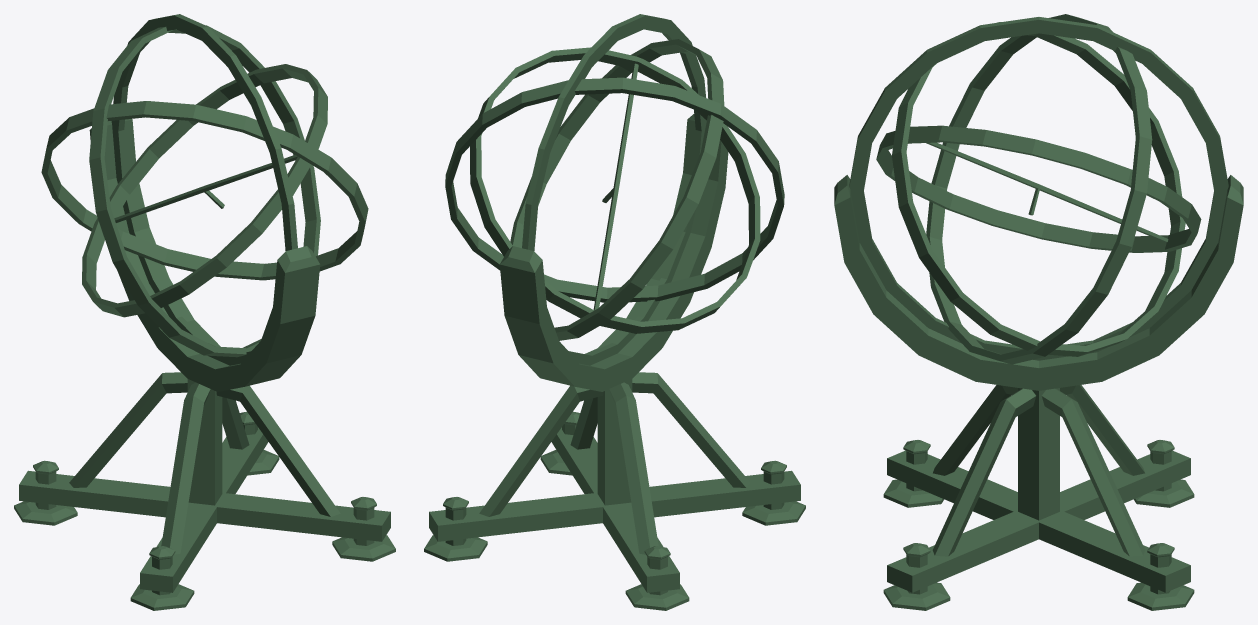
The model's file is 黄道仪.fbx.
3 views of the same model, side by side, from view 1: azimuth 30°, elevation 25°; view 2: azimuth 150°, elevation 25°; view 3: azimuth 270°, elevation 25° (orthographic). The views are drawn at different scales.
Visible parts, largest first — view 1: 立方体.001, 柱体.005, 柱体.009, 环体.001, 柱体.007, 柱体.008, 柱体.006, 立方体.002, 脚脚.004, 脚脚.005, 脚脚.007, 脚脚.006; view 2: 柱体.005, 立方体.001, 柱体.008, 环体.001, 柱体.009, 柱体.007, 柱体.006, 立方体.002, 脚脚.006, 脚脚.007, 脚脚.005, 脚脚.004; view 3: 立方体.001, 柱体.005, 柱体.006, 柱体.009, 环体.001, 柱体.008, 柱体.007, 立方体.002, 脚脚.004, 脚脚.006, 脚脚.005, 脚脚.007.
Boxes of the visible parts, box(x1,y1,x2,y2) form: 立方体.001: box(19, 427, 390, 592); 柱体.005: box(89, 119, 320, 391); 柱体.009: box(82, 64, 327, 317); 环体.001: box(69, 372, 340, 554); 柱体.007: box(41, 101, 368, 280); 柱体.008: box(89, 25, 320, 357); 柱体.006: box(111, 14, 297, 365); 立方体.002: box(187, 379, 222, 505); 脚脚.004: box(332, 497, 395, 561); 脚脚.005: box(14, 460, 77, 525); 脚脚.007: box(130, 546, 194, 610); 脚脚.006: box(239, 411, 279, 475); 柱体.005: box(499, 114, 728, 391); 立方体.001: box(429, 427, 800, 592); 柱体.008: box(445, 77, 784, 302); 环体.001: box(479, 372, 750, 554); 柱体.009: box(470, 47, 760, 333); 柱体.007: box(510, 39, 724, 340); 柱体.006: box(522, 14, 706, 365); 立方体.002: box(597, 379, 632, 505); 脚脚.006: box(424, 497, 487, 561); 脚脚.007: box(742, 460, 805, 525); 脚脚.005: box(625, 546, 689, 610); 脚脚.004: box(540, 411, 580, 475); 立方体.001: box(887, 450, 1190, 592); 柱体.005: box(834, 175, 1243, 390); 柱体.006: box(849, 17, 1228, 360); 柱体.009: box(876, 125, 1201, 252); 环体.001: box(932, 385, 1145, 556); 柱体.008: box(926, 14, 1152, 364); 柱体.007: box(892, 22, 1185, 356); 立方体.002: box(1018, 388, 1059, 520); 脚脚.004: box(883, 543, 950, 610); 脚脚.006: box(1127, 543, 1194, 610); 脚脚.005: box(1134, 440, 1194, 507); 脚脚.007: box(883, 440, 943, 507).
Bounding box in the file's own units: 1434 × 2528 × 1780.
